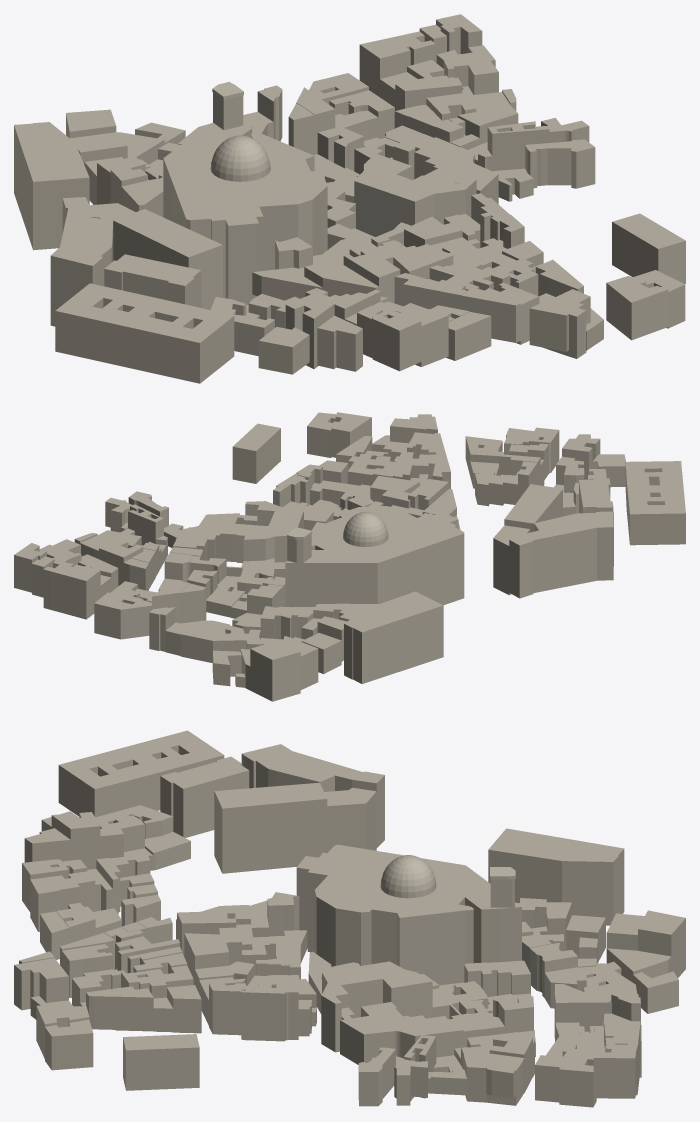
File: bormla_60_30_collision.glb
3 renders of one model, top to bottom at view 1: azimuth 30°, elevation 25°; view 2: azimuth 150°, elevation 25°; view 3: azimuth 270°, elevation 25°, orthographic. The views are drawn at different scales.
Visible parts, largest first — view 1: geometry_0; view 2: geometry_0; view 3: geometry_0.
Boxes of the visible parts, <box> form: geometry_0: <box>14,14,685,383</box>; geometry_0: <box>14,412,685,701</box>; geometry_0: <box>14,730,685,1107</box>.
Size of the model in its own units: 199 by 39.77 by 192.
